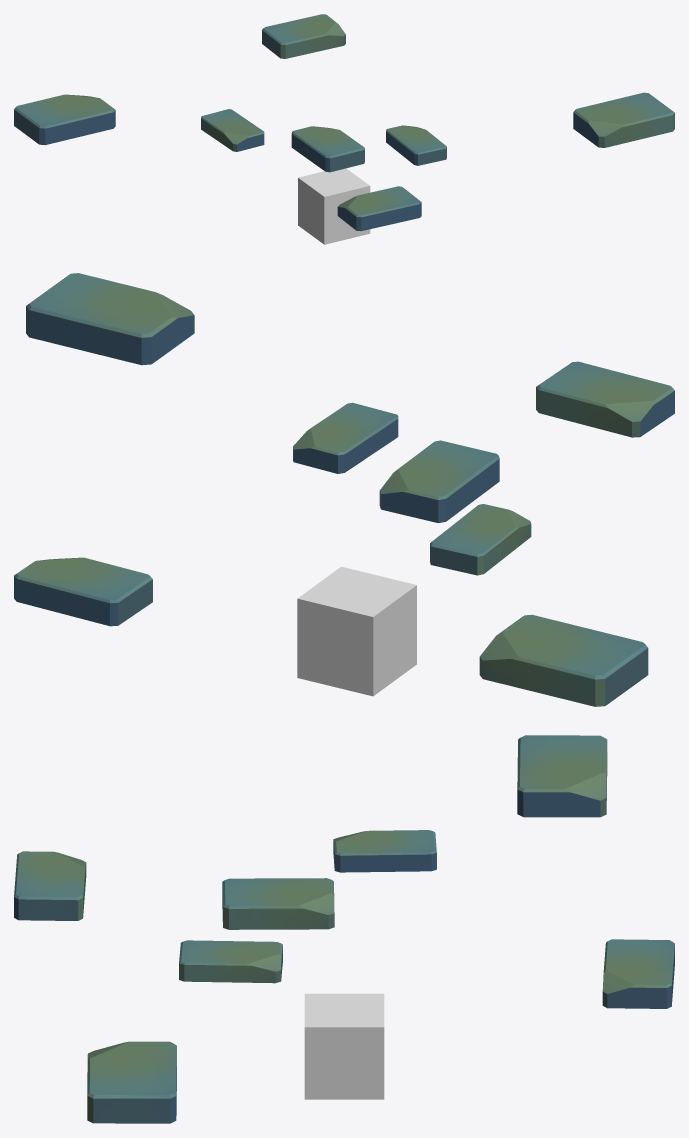
File: battlescence-2-floor012.fbx
The picture shows the model from 3 angles, top to bottom: view 1: azimuth 30°, elevation 25°; view 2: azimuth 150°, elevation 25°; view 3: azimuth 270°, elevation 25°; orthographic projection. The views are drawn at different scales.
Visible parts, largest first — view 1: Cube.102, Cube.116, battlescence-2-floor012, Cube.110, Cube.107, Cube.072, Cube.071, Cube.089; view 2: battlescence-2-floor012, Cube.116, Cube.102, Cube.107, Cube.110, Cube.072, Cube.089, Cube.071; view 3: battlescence-2-floor012, Cube.116, Cube.102, Cube.072, Cube.110, Cube.107, Cube.089, Cube.071.
Boxes of the visible parts, x1,y1,x2,y2 form: Cube.102: (573,92,674,147); Cube.116: (14,94,115,145); battlescence-2-floor012: (298,168,370,244); Cube.110: (262,14,345,58); Cube.107: (337,186,421,231); Cube.072: (291,126,364,172); Cube.071: (201,109,264,151); Cube.089: (386,125,446,165); battlescence-2-floor012: (297,566,416,696); Cube.116: (479,614,648,706); Cube.102: (26,273,194,365); Cube.107: (536,361,674,437); Cube.110: (14,557,152,626); Cube.072: (379,440,499,523); Cube.089: (293,402,398,473); Cube.071: (430,504,531,575); battlescence-2-floor012: (304,993,384,1099); Cube.116: (517,735,607,817); Cube.102: (87,1041,176,1123); Cube.072: (222,878,334,929); Cube.110: (602,939,674,1008); Cube.107: (14,851,86,920); Cube.089: (179,940,282,983); Cube.071: (333,830,436,872).
Bounding box in the file's own units: 2155 × 489 × 1661.
